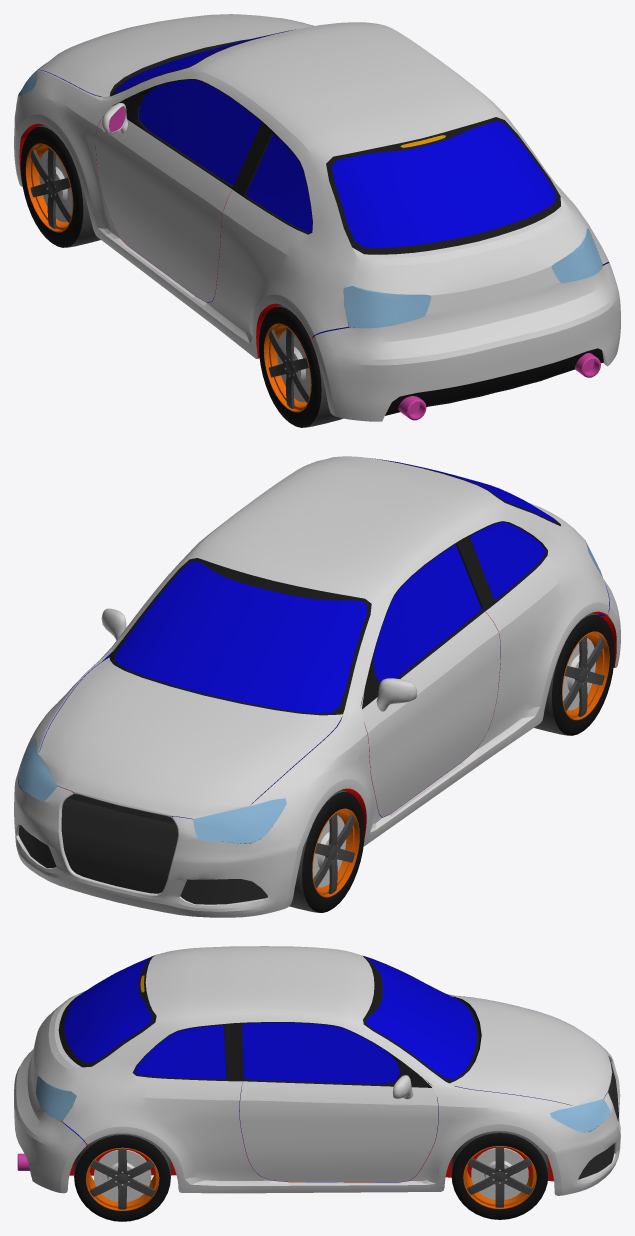
File: car.dae
3 views of the same model, one above another, from view 1: azimuth 30°, elevation 25°; view 2: azimuth 150°, elevation 25°; view 3: azimuth 270°, elevation 25° (orthographic). The views are drawn at different scales.
Visible parts, largest first — view 1: Wind, FL, RL; view 2: Wind, FL, RL; view 3: Wind, FR, RR.
Part boxes in pixels (x1,y1,x2,y2): Wind: [14, 14, 620, 421]; FL: [20, 124, 100, 247]; RL: [259, 305, 342, 427]; Wind: [14, 456, 620, 917]; FL: [289, 790, 364, 912]; RL: [534, 613, 614, 735]; Wind: [14, 946, 620, 1195]; FR: [451, 1131, 548, 1219]; RR: [74, 1133, 171, 1221].
Bounding box in the file's own units: 1.92 × 4.16 × 1.46.
